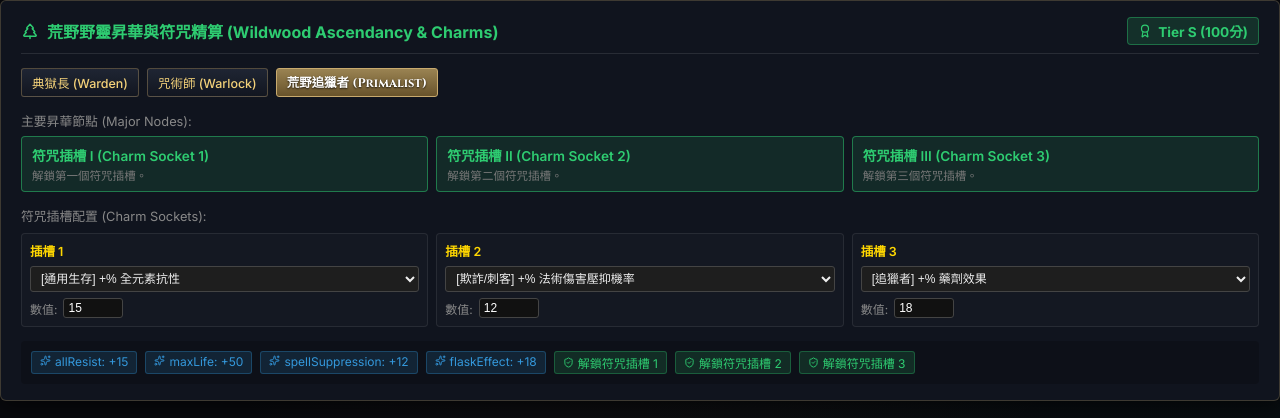
Scenario: WildwoodCharmsCard › switches ascendancy to Warden and displays Warden major nodes
This screenshot has width=1280, height=418.
Click the button "典獄長 (Warden)".
click(80, 82)  # box [21,68,139,97]
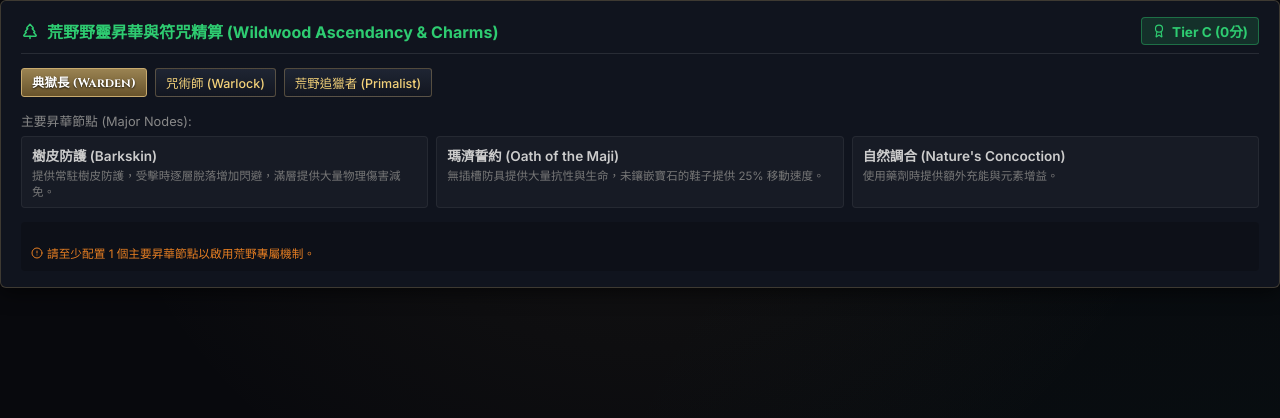
Expected: the text "樹皮防護 (Barkskin)" is shown, [32,148,157,164]
Expected: the text "瑪濟誓約 (Oath of the Maji)" is shown, [447,148,619,164]
Expected: the text "符咒插槽配置" is gone
